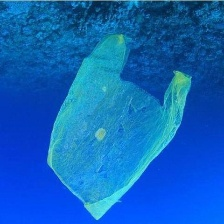plastic_bag: (41, 26, 197, 222)
